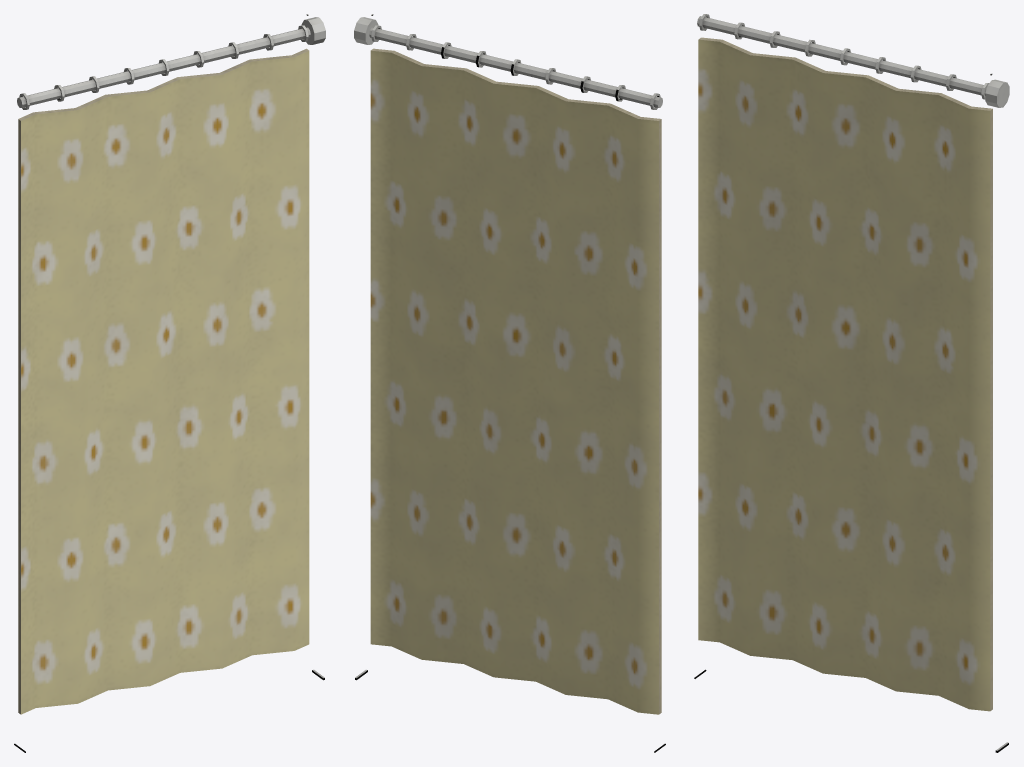
The model's file is H_ShowerGlass.fbx.
The picture shows the model from 3 angles, left to right: view 1: azimuth 30°, elevation 25°; view 2: azimuth 150°, elevation 25°; view 3: azimuth 330°, elevation 25°; orthographic projection.
Visible parts, largest first — view 1: H_ShowerGlass__H_ShowerGlass, H_ShowerGlass__H_ShowerGlassProfile; view 2: H_ShowerGlass__H_ShowerGlass, H_ShowerGlass__H_ShowerGlassProfile; view 3: H_ShowerGlass__H_ShowerGlass, H_ShowerGlass__H_ShowerGlassProfile.
Part boxes in pixels (x1=…): H_ShowerGlass__H_ShowerGlass: x1=14, y1=14, x2=310, y2=752; H_ShowerGlass__H_ShowerGlassProfile: x1=301, y1=17, x2=325, y2=680; H_ShowerGlass__H_ShowerGlass: x1=369, y1=14, x2=665, y2=752; H_ShowerGlass__H_ShowerGlassProfile: x1=354, y1=17, x2=378, y2=680; H_ShowerGlass__H_ShowerGlass: x1=694, y1=14, x2=992, y2=711; H_ShowerGlass__H_ShowerGlassProfile: x1=985, y1=79, x2=1009, y2=752.
Size of the model in its own units: 312 by 660 by 22.83.
1 material, 1 textured.
